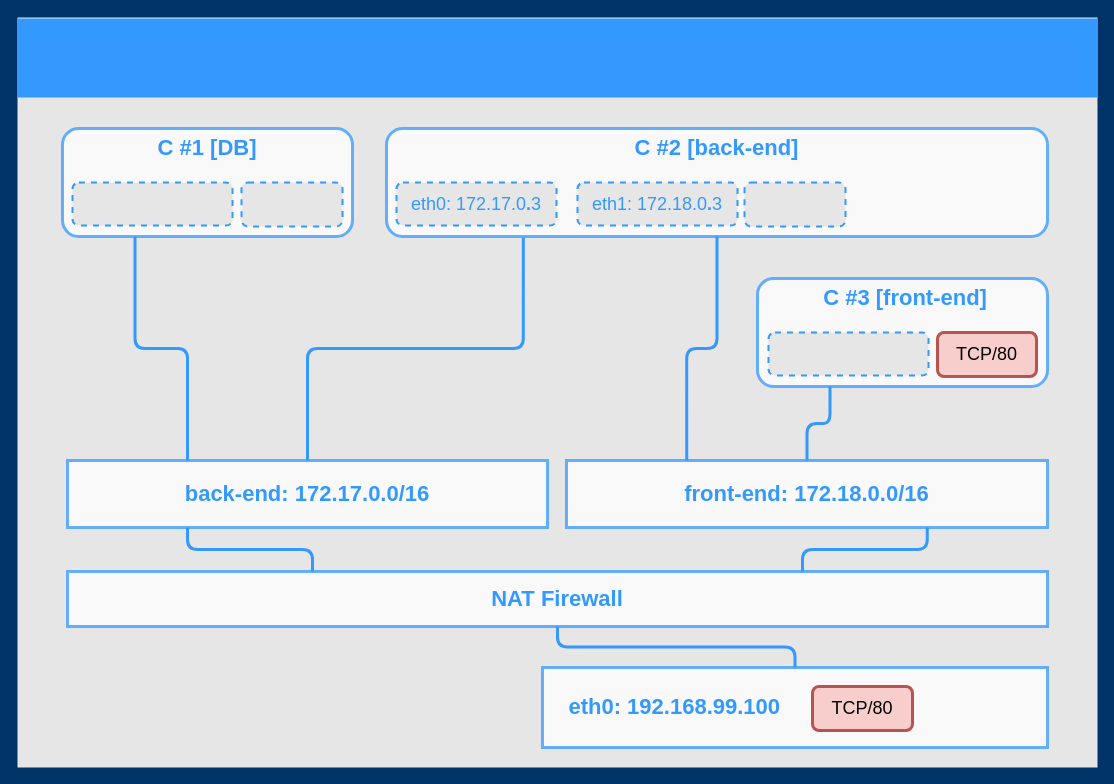
This 1114x784 diagram has some shape labels left out. The centre of each missing label's shape, as x and y in pixels:
"eth0: 172.17.0 .2" belongs at pixel 152 203.
"eth0: 172.18.0 . 2" belongs at pixel 848 353.
"Host Running Docker" belongs at pixel 557 57.
"TCP/ 5432" belongs at pixel 291 204.
"TCP/ 8080" belongs at pixel 794 204.
